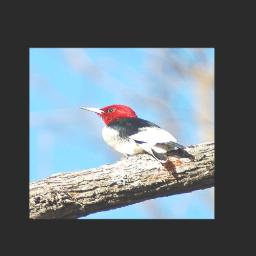Woodpecker: (76, 104, 187, 164)
